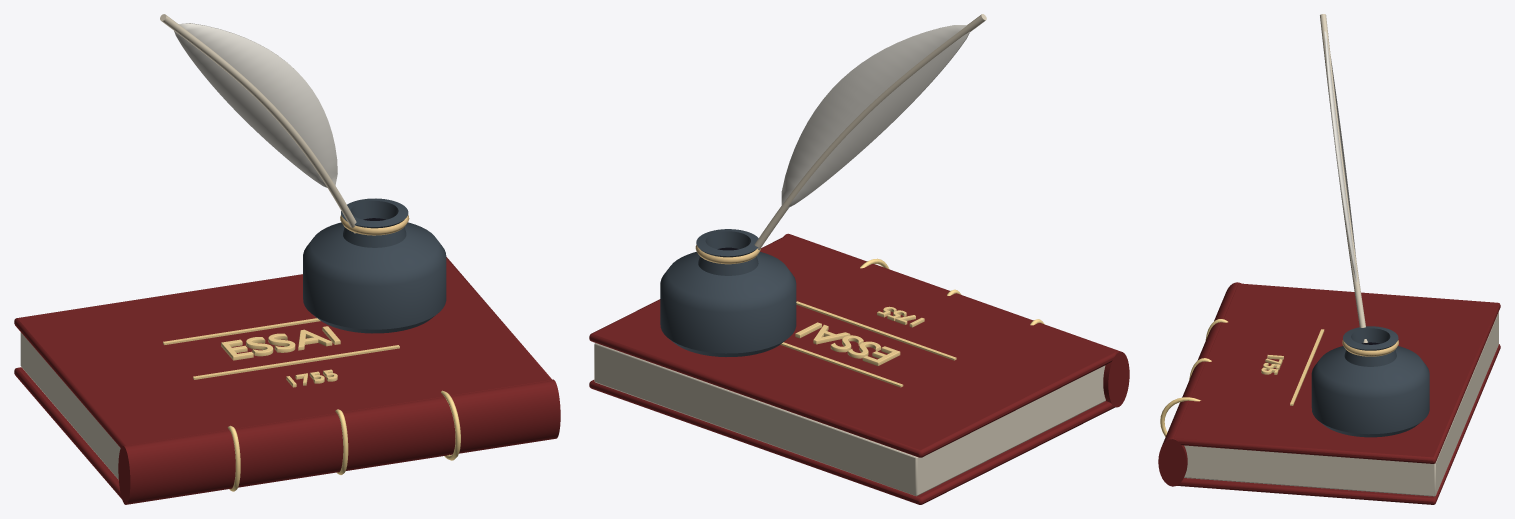
Rendered from quill.glb.
3 renders of one model, left to right at view 1: azimuth 30°, elevation 25°; view 2: azimuth 150°, elevation 25°; view 3: azimuth 270°, elevation 25°, orthographic. The views are drawn at different scales.
Visible parts, largest first — view 1: essai_top, essai_spine, inkwell, vane, essai_pages, shaft, title, essai_bot, rule1, rule2; view 2: essai_top, essai_pages, inkwell, vane, essai_bot, shaft, essai_spine, title, rule1; view 3: essai_top, essai_pages, inkwell, essai_bot, essai_spine, vane, shaft.
Boxes of the visible parts, bbox=[...] form: essai_top: bbox=[14, 257, 551, 450]; essai_spine: bbox=[118, 379, 560, 504]; inkwell: bbox=[303, 198, 446, 333]; vane: bbox=[174, 23, 337, 187]; essai_pages: bbox=[20, 332, 120, 479]; shaft: bbox=[160, 14, 356, 233]; title: bbox=[221, 326, 340, 360]; essai_bot: bbox=[14, 367, 123, 500]; rule1: bbox=[193, 345, 399, 379]; rule2: bbox=[163, 318, 320, 344]; essai_top: bbox=[589, 235, 1115, 457]; essai_pages: bbox=[594, 343, 1105, 496]; inkwell: bbox=[660, 229, 796, 356]; vane: bbox=[781, 25, 969, 208]; essai_bot: bbox=[589, 380, 1115, 504]; shaft: bbox=[754, 14, 986, 249]; essai_spine: bbox=[783, 233, 1129, 407]; title: bbox=[795, 322, 900, 365]; rule1: bbox=[796, 301, 956, 360]; essai_top: bbox=[1174, 283, 1500, 463]; essai_pages: bbox=[1184, 312, 1498, 496]; inkwell: bbox=[1311, 326, 1429, 437]; essai_bot: bbox=[1173, 344, 1500, 504]; essai_spine: bbox=[1158, 282, 1241, 486]; vane: bbox=[1324, 31, 1357, 281]; shaft: bbox=[1320, 14, 1367, 342].
Size of the model in its own units: 1.28 by 1.2 by 1.05.
